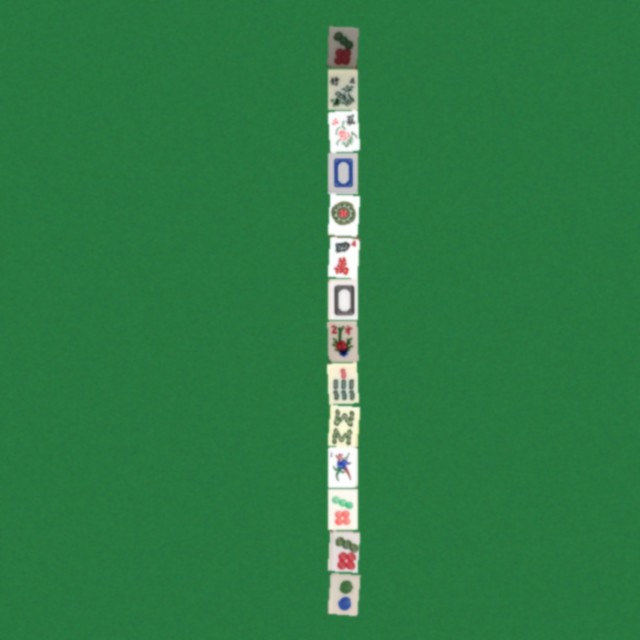tile: (327, 26, 357, 67), (327, 68, 357, 109), (327, 110, 357, 151), (327, 152, 357, 193), (327, 194, 357, 235), (327, 236, 357, 277), (327, 278, 357, 319), (327, 320, 357, 361), (327, 362, 357, 403), (327, 404, 357, 445), (327, 446, 357, 487), (327, 488, 357, 529), (327, 530, 357, 571), (327, 572, 357, 613)
